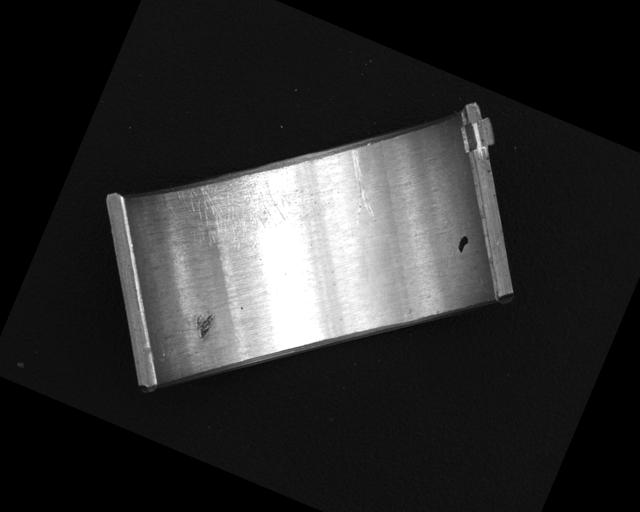blot: (453, 232, 471, 254)
bruise: (190, 306, 219, 341)
nick: (323, 147, 395, 232)
scratch: (154, 130, 321, 277)
